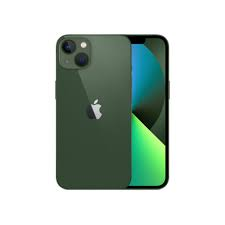-iphone13: (52, 37, 170, 191)
